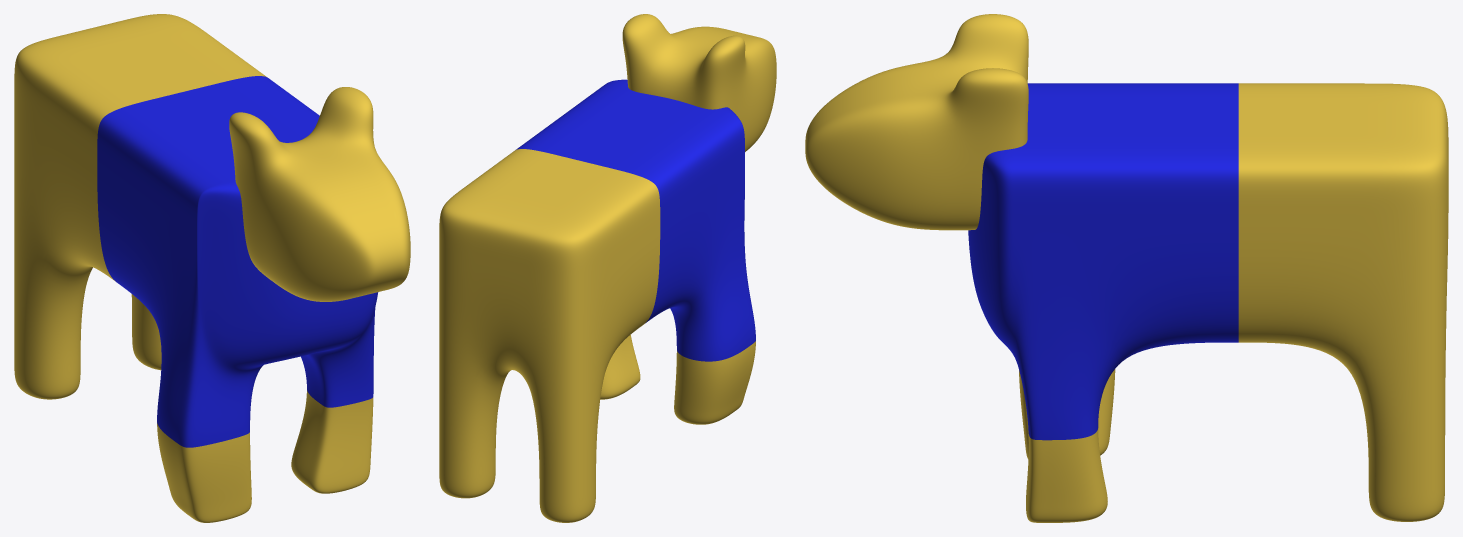
Rendered from Bear.fbx.
3 renders of one model, left to right at view 1: azimuth 30°, elevation 25°; view 2: azimuth 150°, elevation 25°; view 3: azimuth 270°, elevation 25°, orthographic. The views are drawn at different scales.
Parts seen in each view (by area): view 1: Cube.001; view 2: Cube.001; view 3: Cube.001.
Boxes of the visible parts, box(x1,y1,x2,y2) form: Cube.001: box(14, 14, 410, 522); Cube.001: box(439, 14, 776, 522); Cube.001: box(805, 14, 1448, 522).
Bounding box in the file's own units: 220 × 448 × 594.
